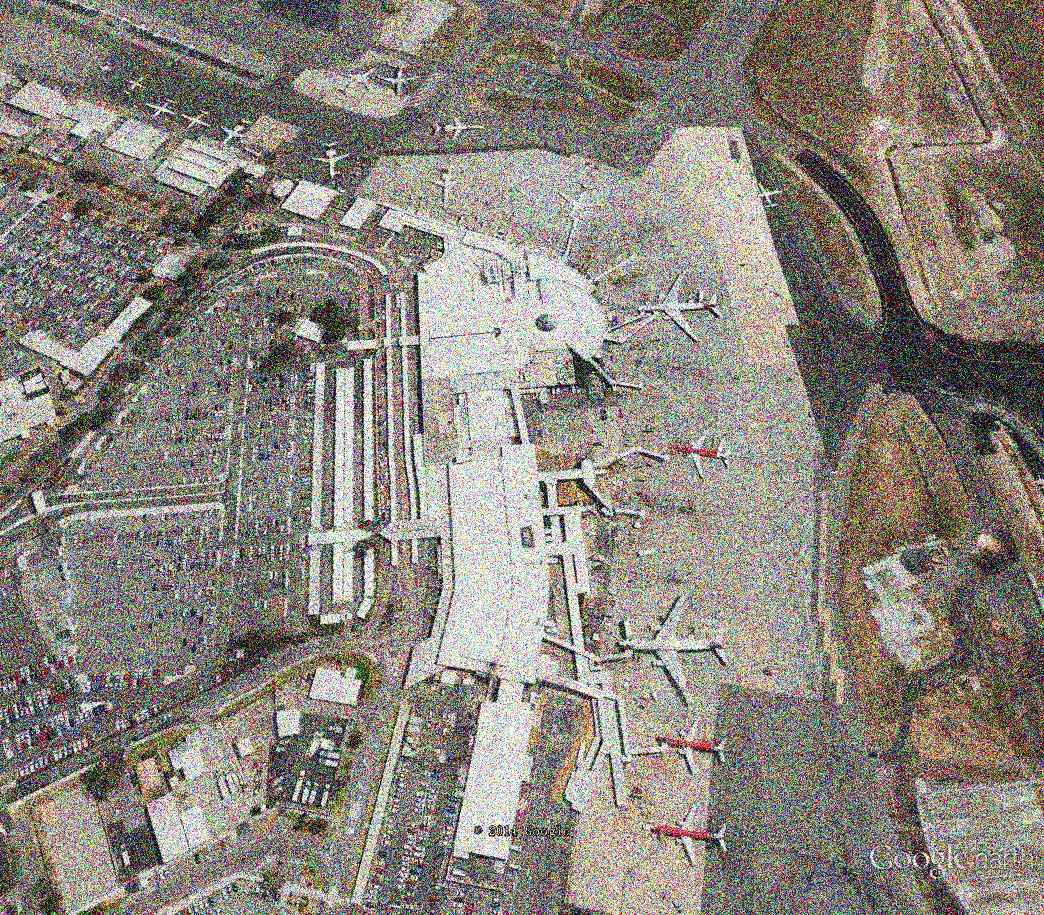aircraft: (613, 591, 733, 708), (631, 270, 723, 347), (649, 799, 731, 875), (654, 715, 730, 779), (661, 426, 737, 485), (558, 179, 606, 227), (425, 164, 472, 209), (310, 140, 356, 181), (431, 112, 486, 145), (378, 62, 426, 99), (335, 65, 383, 97), (744, 181, 790, 213), (218, 116, 259, 151), (177, 107, 213, 133), (143, 96, 180, 121), (125, 74, 150, 97), (132, 17, 150, 34), (181, 41, 199, 58), (163, 33, 182, 48), (98, 61, 115, 76), (95, 7, 111, 21), (220, 54, 237, 67), (114, 14, 132, 26), (79, 2, 98, 13), (149, 29, 163, 41)
